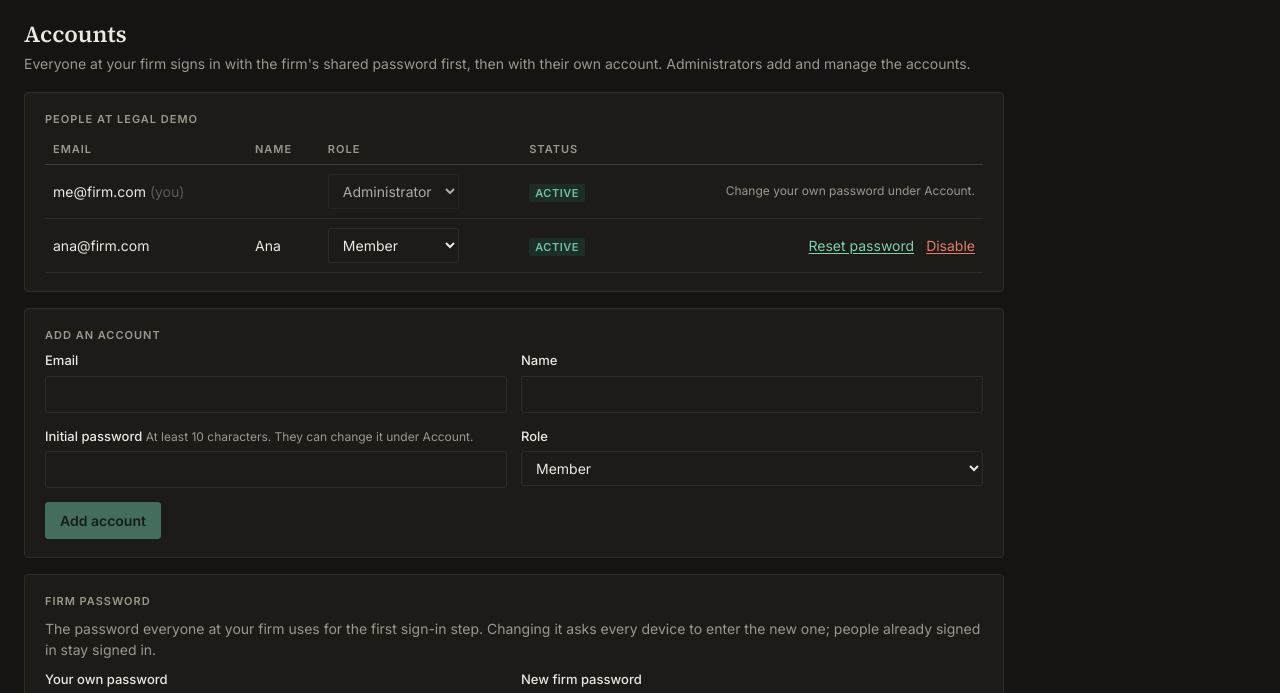
Test: AccountsView › keeps the reset form open when the new password is refused
The width and height of the screenshot is (1280, 693).
Click the button "Reset password" at (861, 245), box [808,235,914,256]
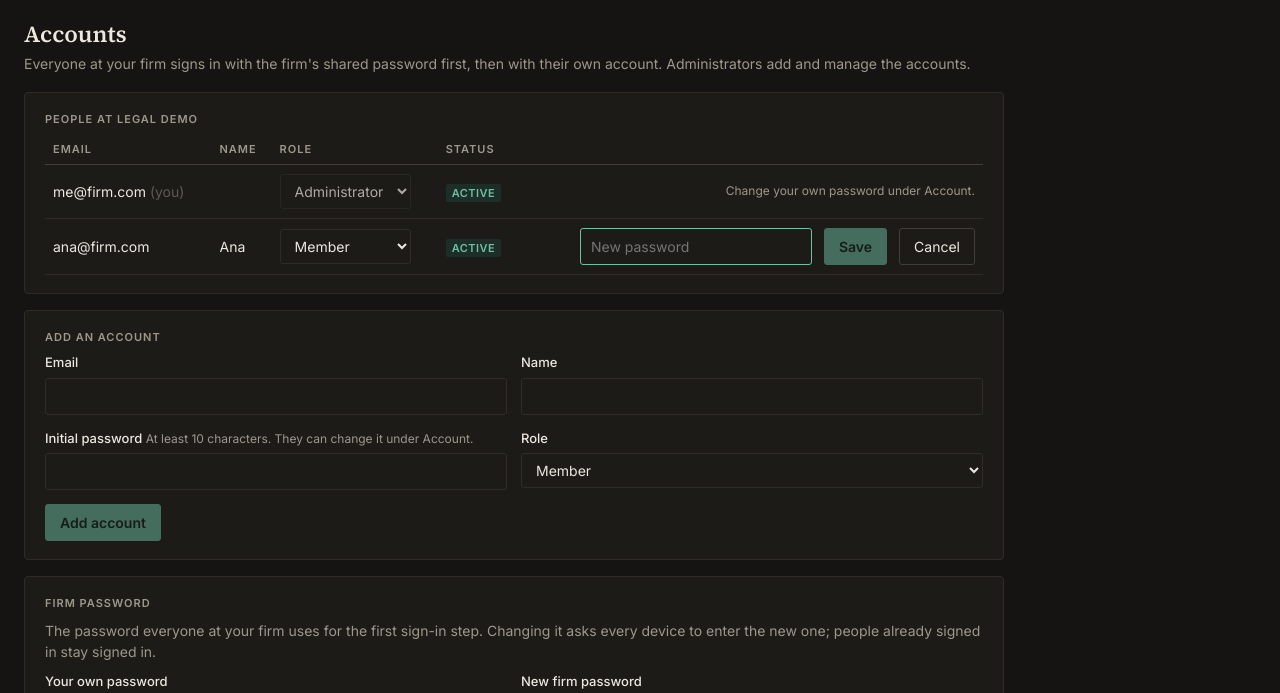
Type "0123456789" into the password field with placeholder "New password" at (696, 246), box [580,228,812,265]
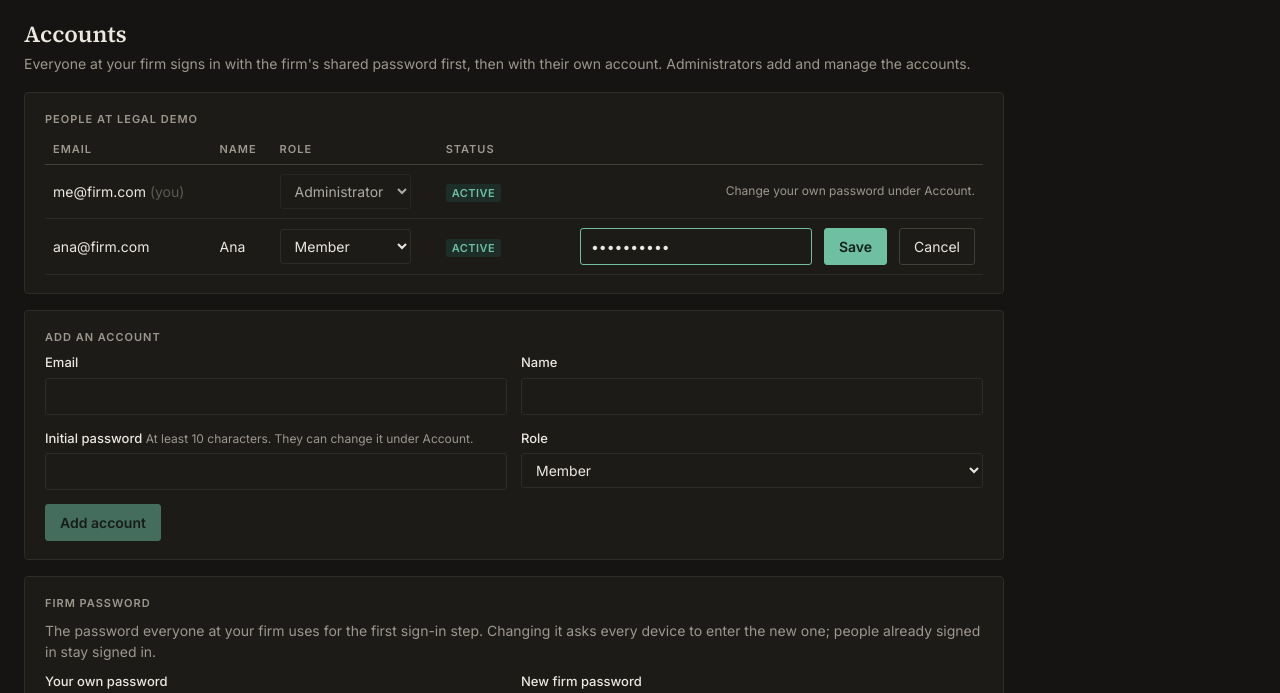
Click the button "Save" at (856, 246), box [824,228,887,265]
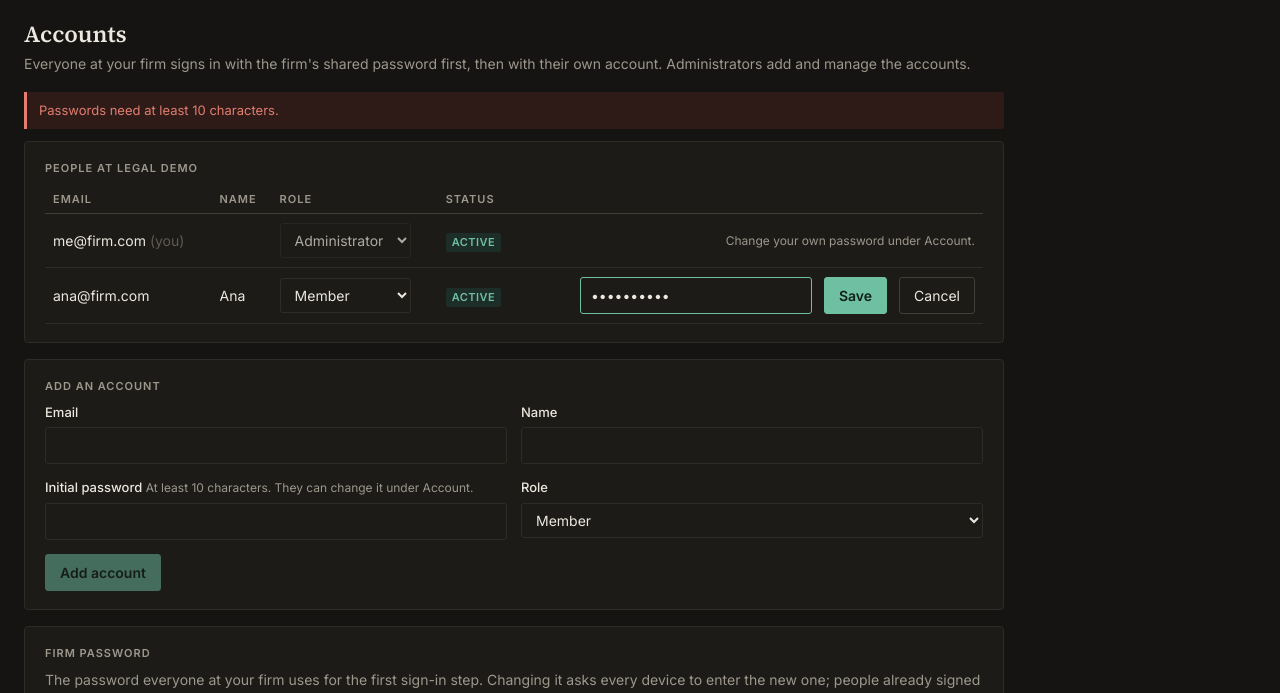
Expected: the text "Passwords need at least 10 characters." is shown, [24,92,1004,129]
